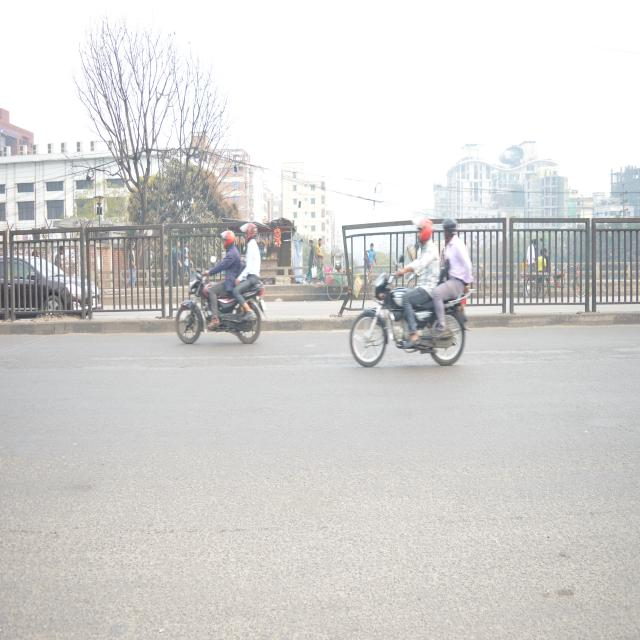car: (0, 252, 92, 330)
motorbike: (339, 272, 468, 380), (176, 256, 262, 360)
